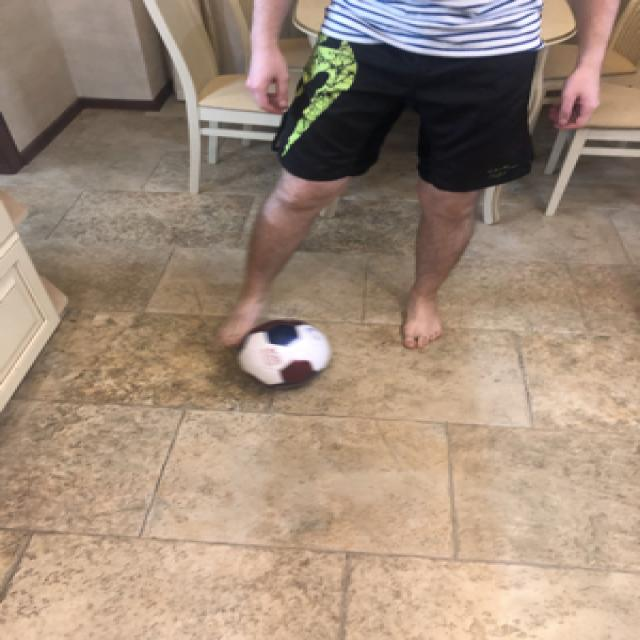soccer_ball: (230, 315, 331, 389)
